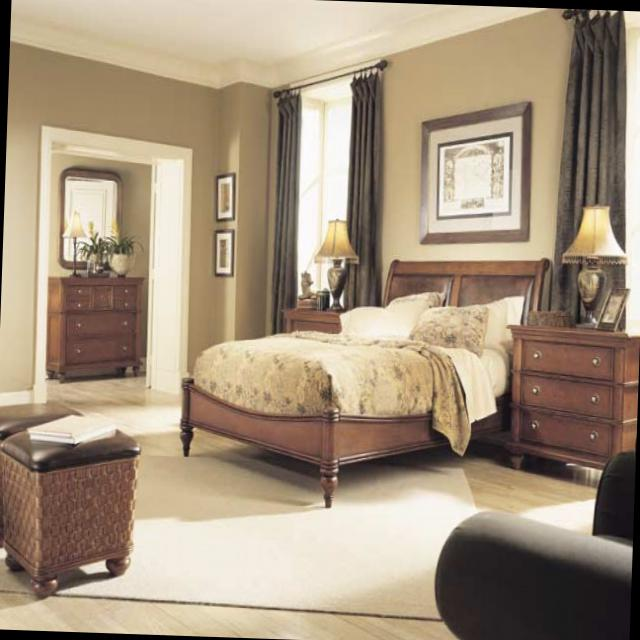bed -occluded-: (178, 251, 548, 504)
curtain crop: (554, 9, 623, 242), (348, 66, 378, 291), (272, 82, 297, 315)
lamp crop: (560, 201, 627, 323), (312, 216, 356, 307)
mug: (313, 289, 329, 309)
painting crop: (418, 100, 529, 243), (212, 227, 232, 274)
picture crop: (214, 174, 235, 220)
stool crop: (0, 410, 141, 598)
wardrobe part: (44, 272, 144, 379)
